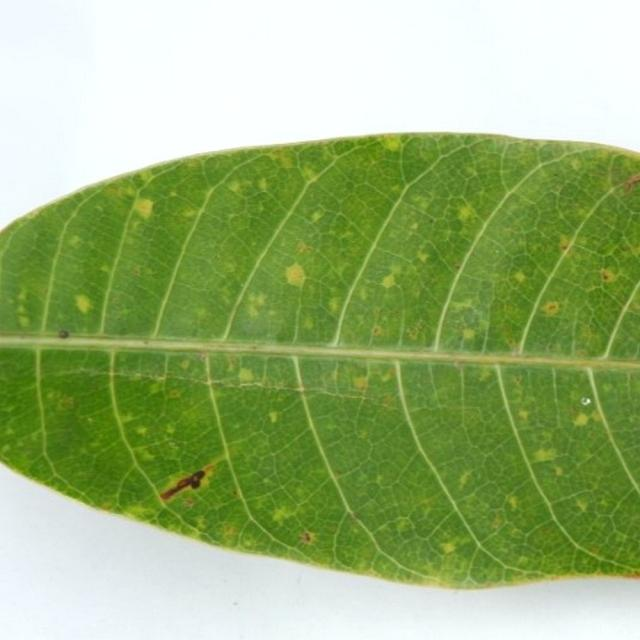Mango: (0, 133, 639, 593)
Powdery_Mildew: (158, 464, 213, 502), (272, 260, 320, 298), (12, 284, 42, 328), (574, 405, 608, 427), (245, 291, 269, 317), (405, 320, 427, 341), (133, 198, 154, 219), (74, 293, 93, 314), (272, 505, 294, 523), (449, 299, 477, 313), (533, 447, 557, 463), (457, 204, 475, 221), (237, 367, 255, 383), (380, 273, 397, 289), (383, 137, 402, 151), (558, 234, 573, 251), (600, 268, 617, 283), (58, 396, 76, 410), (458, 470, 472, 488), (299, 530, 315, 545), (222, 524, 238, 539), (328, 297, 341, 315), (440, 541, 457, 554), (296, 241, 313, 254), (416, 249, 430, 264), (506, 494, 519, 510), (461, 327, 476, 340), (512, 271, 526, 284), (310, 210, 324, 223), (575, 498, 588, 512), (353, 378, 368, 390), (302, 315, 314, 330), (257, 177, 268, 192), (518, 409, 531, 421), (18, 315, 30, 328), (135, 425, 148, 436), (167, 389, 181, 399), (268, 411, 279, 423), (16, 289, 27, 301), (372, 326, 384, 336), (58, 329, 69, 339), (166, 424, 176, 434), (547, 303, 557, 312), (603, 273, 609, 281)
